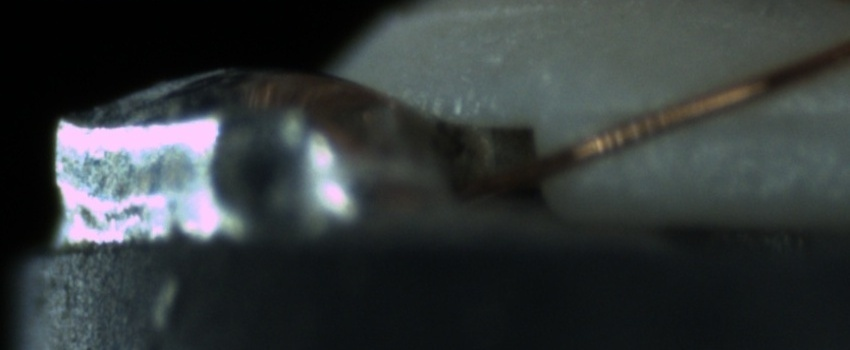DL: (618, 79, 848, 151)
